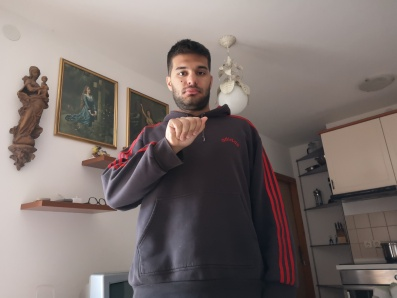A: (162, 115, 209, 148)
